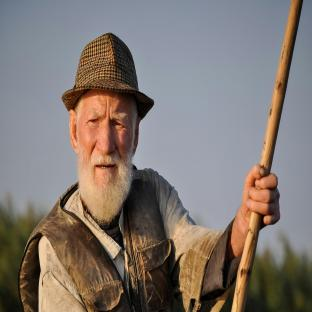Human: (18, 33, 280, 312)
